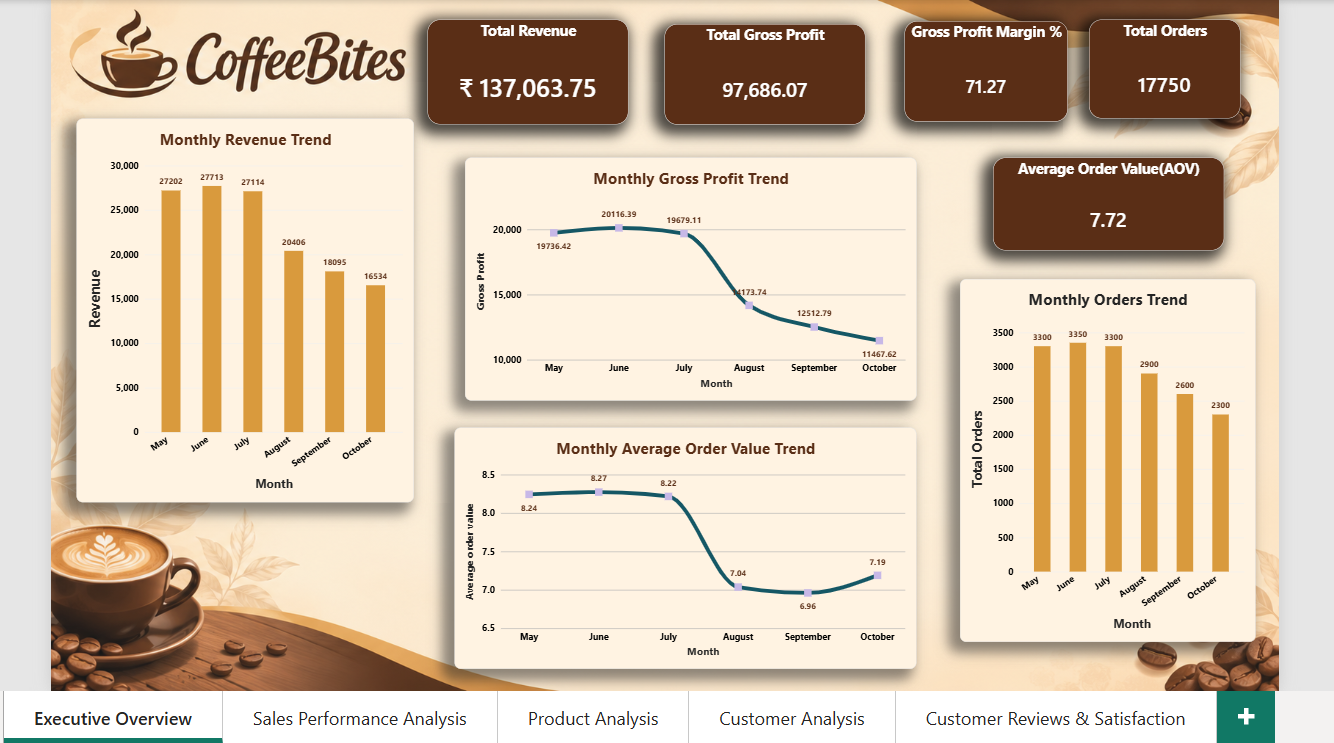

This screenshot's page, from the dashboard's own definition file:
{"tool":"powerbi","page":{"name":"Executive Overview","canvas":[1920,1080],"ordinal":0},"visuals":[{"type":"cardVisual","title":"Total Revenue","fields":{"Data":["Transaction_Items_Clean.Total Revenue"]},"box":[588.5,30.5,314.2,164.1],"z":0},{"type":"cardVisual","title":"Total Orders","fields":{"Data":["Transaction_Items_Clean.Total Orders"]},"box":[1622.4,30.5,236.8,154.7],"z":1},{"type":"cardVisual","title":"Average Order Value(AOV)","fields":{"Data":["Transaction_Items_Clean.Average_Order_Value"]},"box":[1472.3,246.2,361.1,145.4],"z":2},{"type":"cardVisual","title":"Total Gross Profit","fields":{"Data":["Transaction_Items_Clean.Total Gross Profit"]},"box":[958.9,37.5,314.2,157.1],"z":3},{"type":"cardVisual","title":"Gross Profit Margin %","fields":{"Data":["Transaction_Items_Clean.Gross Profit Margin"]},"box":[1334,32.8,255.5,157.1],"z":4},{"type":"columnChart","title":"Monthly Revenue Trend","fields":{"Category":["Transaction_raw_Clean.order_datetime.Variation.Date Hierarchy.Month"],"Y":["Transaction_Items_Clean.Total Revenue"]},"box":[39.9,185.2,527.5,600.2],"z":5},{"type":"lineChart","title":"Monthly Gross Profit Trend","fields":{"Category":["Transaction_raw_Clean.order_datetime.Variation.Date Hierarchy.Month"],"Y":["Transaction_Items_Clean.Total Gross Profit"]},"box":[647.1,246.2,705.7,379.8],"z":6},{"type":"columnChart","title":"Monthly Orders Trend","fields":{"Category":["Transaction_raw_Clean.order_datetime.Variation.Date Hierarchy.Month"],"Y":["Transaction_Items_Clean.Total Orders"]},"box":[1420.8,436.1,461.9,567.4],"z":7},{"type":"lineChart","title":"Monthly Average Order Value Trend","fields":{"Category":["Transaction_raw_Clean.order_datetime.Variation.Date Hierarchy.Month"],"Y":["Transaction_Items_Clean.Average_Order_Value"]},"box":[630.7,668.2,722.1,377.5],"z":8}]}

Visuals, with their boxes in screenshot pixels (x1, y1, x2, y2), scaled from the page's 1920x1080 canvas onto the 1334x743 screenshot:
"Total Revenue" cardVisual: 409:21:627:134
"Total Orders" cardVisual: 1127:21:1292:127
"Average Order Value(AOV)" cardVisual: 1023:169:1274:269
"Total Gross Profit" cardVisual: 666:26:885:134
"Gross Profit Margin %" cardVisual: 927:23:1104:131
"Monthly Revenue Trend" columnChart: 28:127:394:540
"Monthly Gross Profit Trend" lineChart: 450:169:940:431
"Monthly Orders Trend" columnChart: 987:300:1308:690
"Monthly Average Order Value Trend" lineChart: 438:460:940:719
